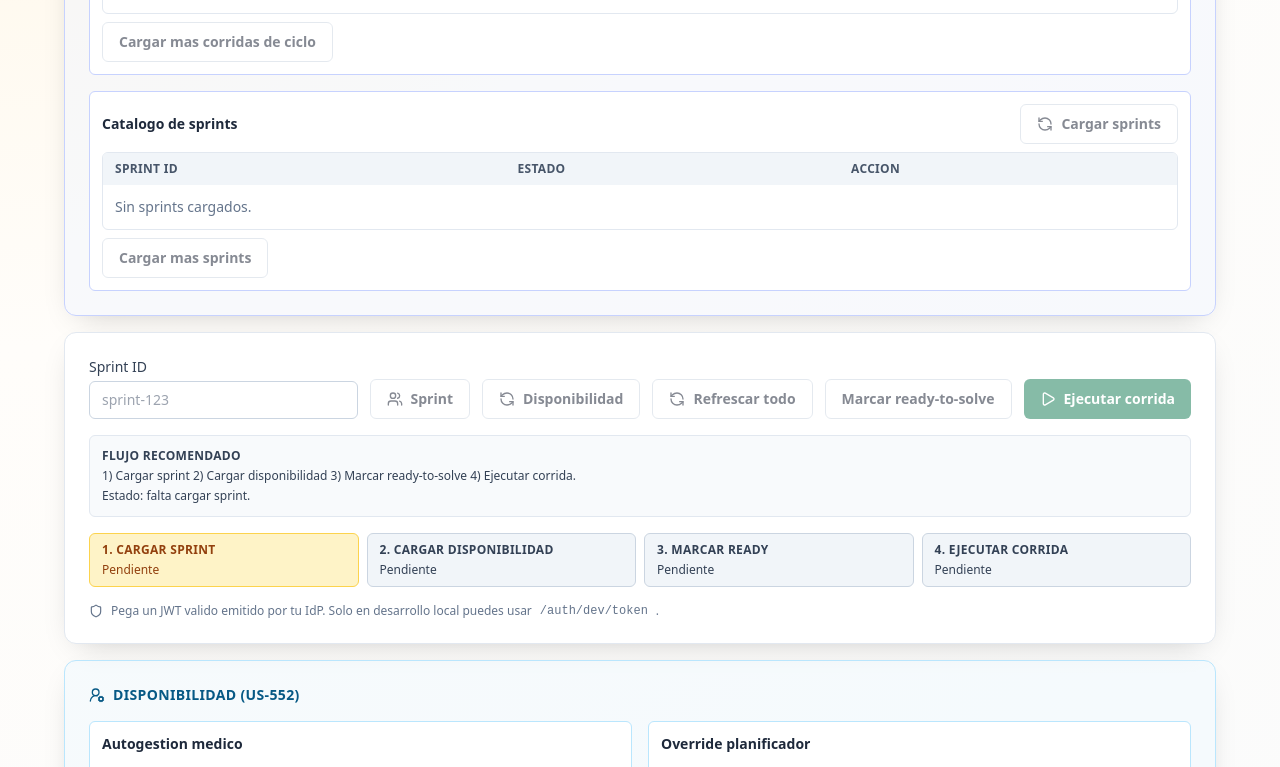
Test case: App › marks sprint ready and runs sprint solve rendering assignments
(page scrolled)
Type "sprint-1" into the field labelled "Sprint ID". click: (223, 400)
box: left=89, top=381, right=358, bottom=419
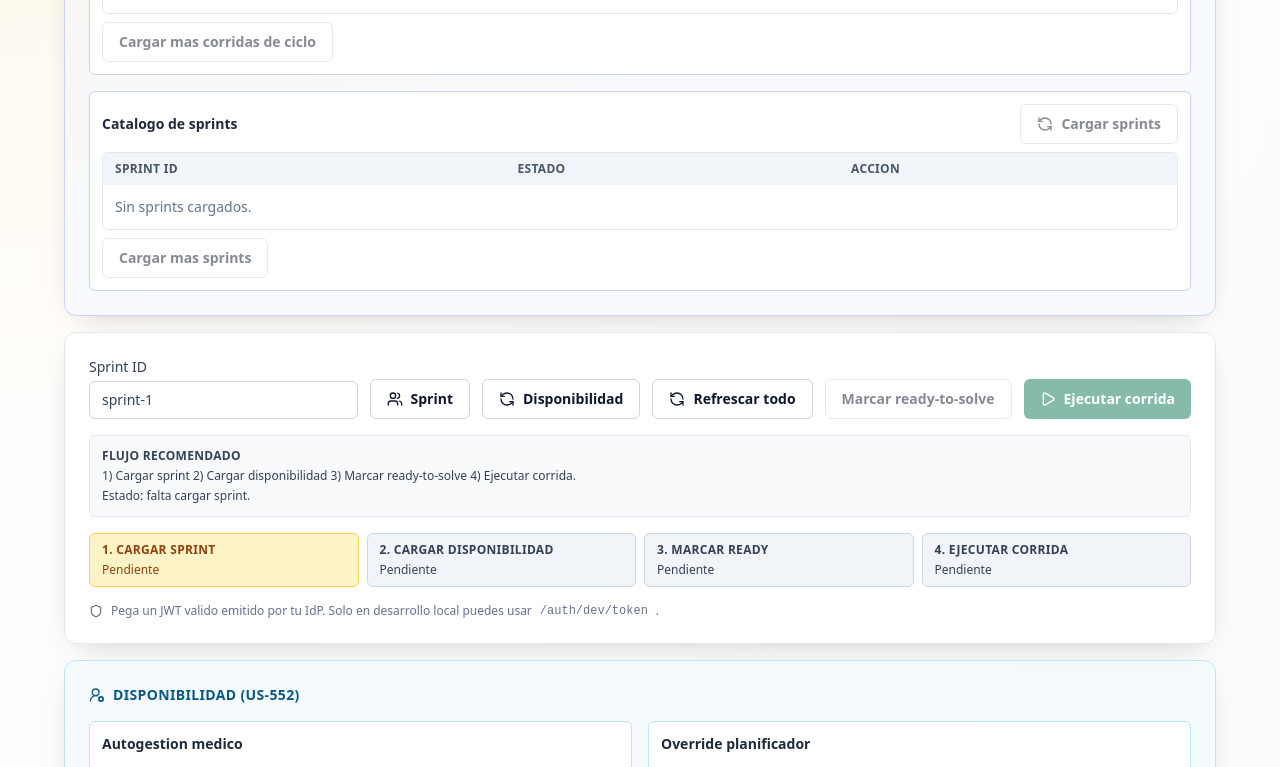
Click the button named "Cargar sprint". click: (420, 399)
box: left=370, top=379, right=470, bottom=419
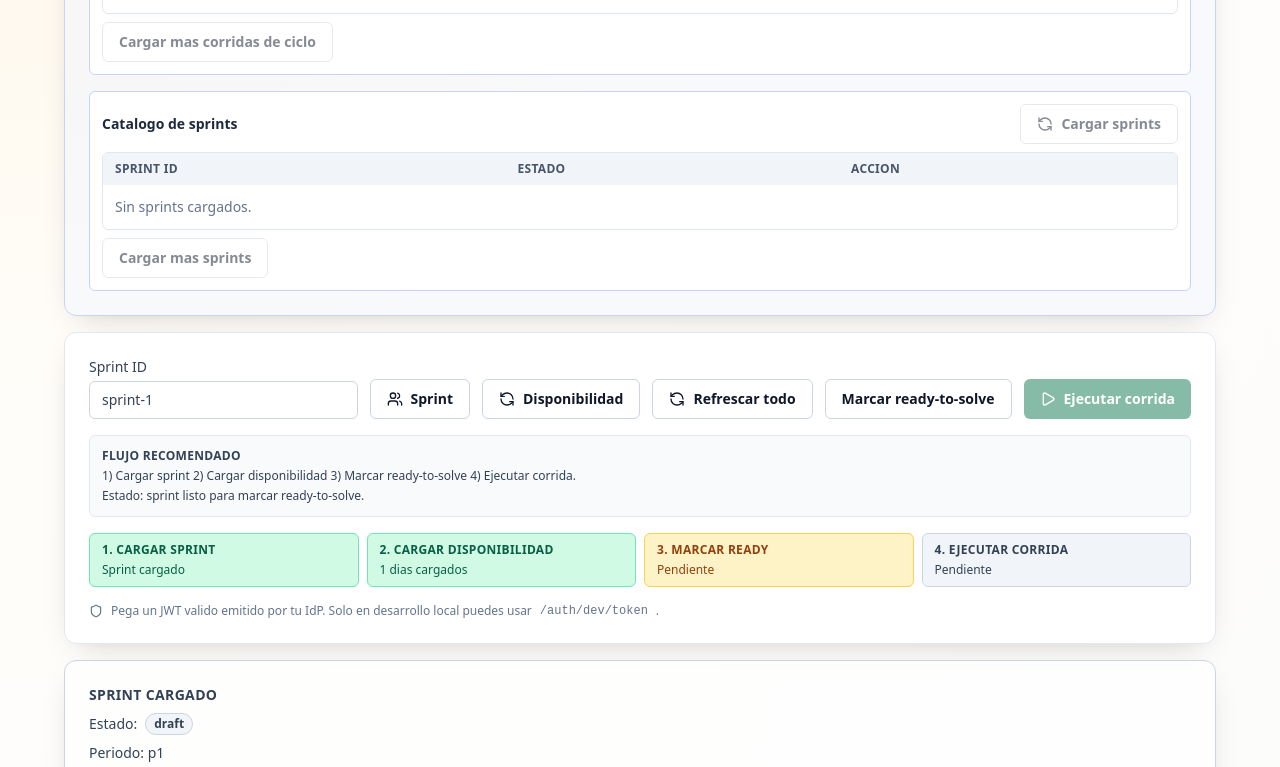
Result: the button "Marcar ready-to-solve" is enabled
Click the button "Marcar ready-to-solve". click: (918, 399)
box: left=825, top=379, right=1012, bottom=419
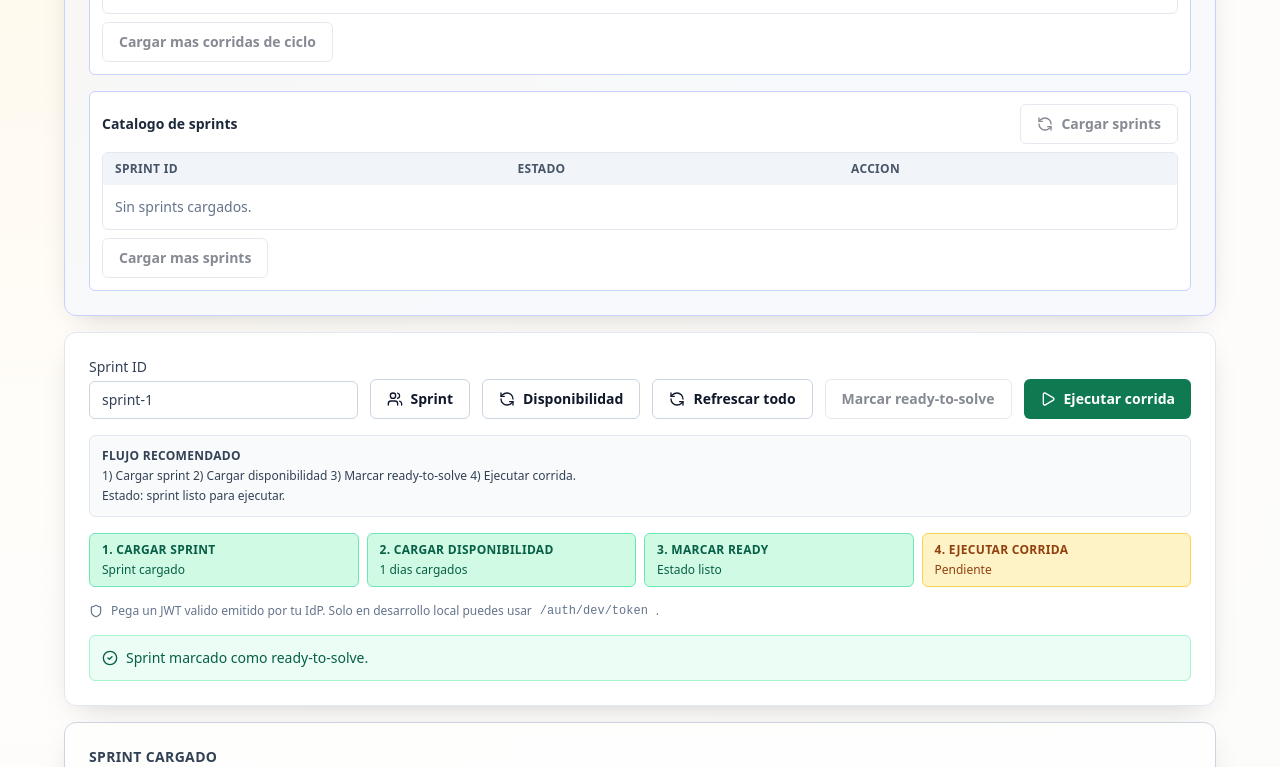
Result: the button "Ejecutar corrida" is enabled
Click the button "Ejecutar corrida". click: (1107, 399)
box: left=1024, top=379, right=1191, bottom=419
(page scrolled)
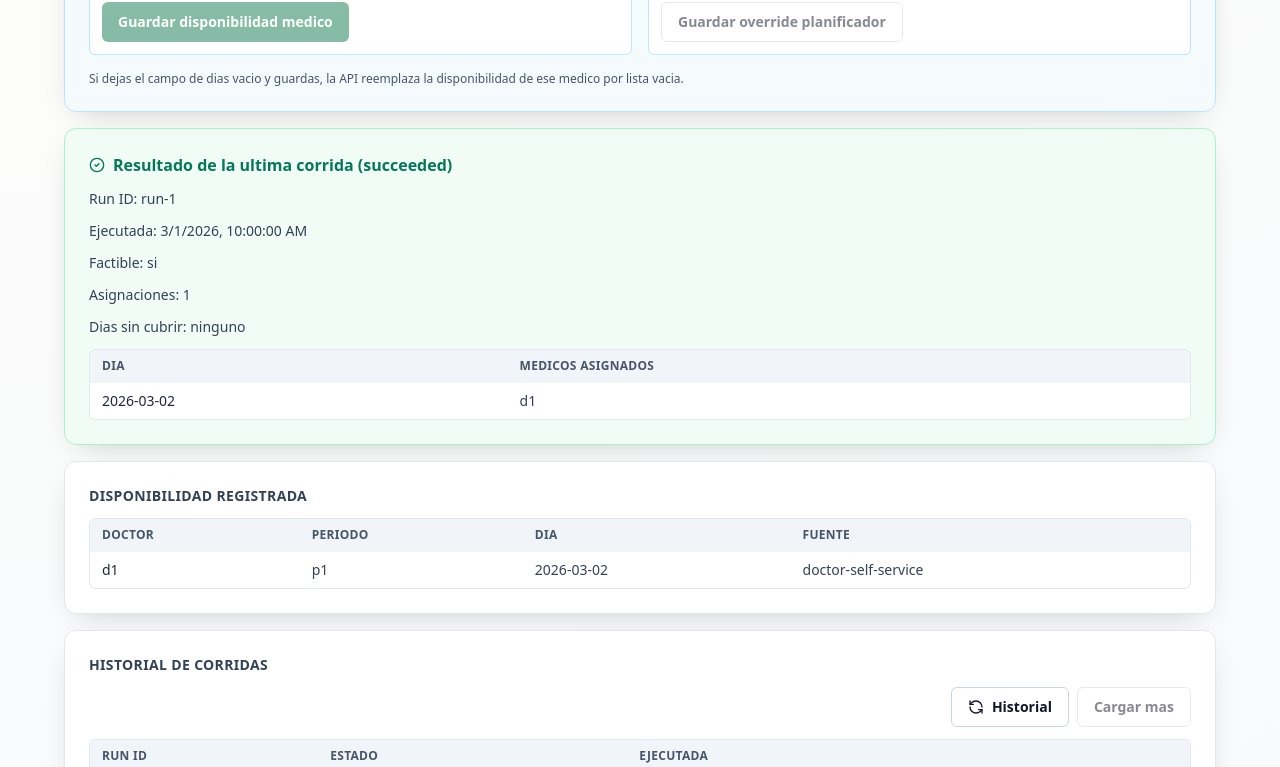
Result: the text "Resultado de la ultima corrida (succeeded)" is shown at left=89, top=154, right=452, bottom=176
Result: the text "2026-03-02" below "Medicos asignados" is shown at left=102, top=391, right=175, bottom=410
Result: the text "d1" below "Medicos asignados" is shown at left=520, top=391, right=536, bottom=410
